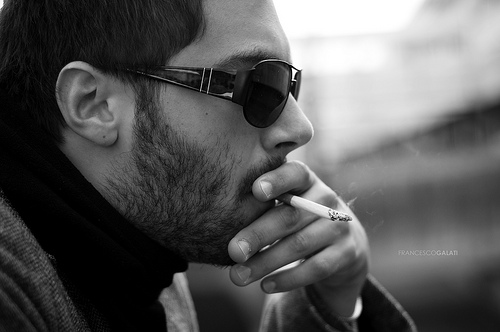cigarette: (269, 183, 359, 228)
